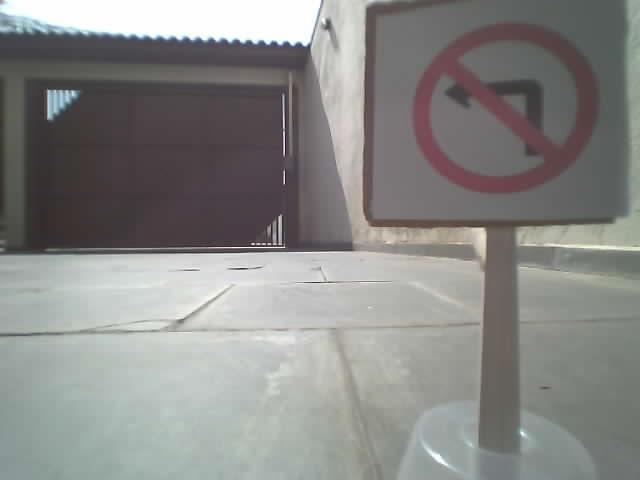R-4a_proibido-esquerda: (410, 21, 597, 192)
